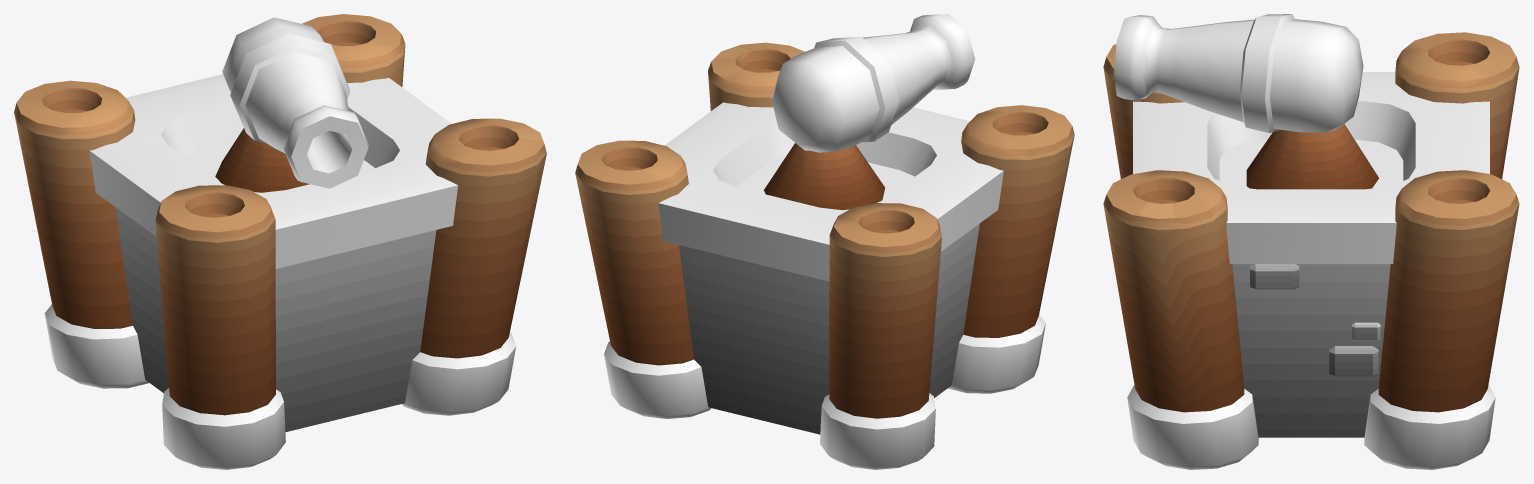
Rendered from Tower_01.fbx.
The picture shows the model from 3 angles, left to right: view 1: azimuth 30°, elevation 25°; view 2: azimuth 150°, elevation 25°; view 3: azimuth 270°, elevation 25°; orthographic projection. The views are drawn at different scales.
Parts seen in each view (by area): view 1: Tower_01, Cannon; view 2: Tower_01, Cannon; view 3: Tower_01, Cannon.
Boxes of the visible parts, bbox=[...] form: Tower_01: bbox=[14, 14, 546, 469]; Cannon: bbox=[222, 17, 368, 188]; Tower_01: bbox=[575, 42, 1074, 469]; Cannon: bbox=[772, 14, 975, 152]; Tower_01: bbox=[1103, 32, 1519, 469]; Cannon: bbox=[1114, 14, 1363, 133].
Size of the model in its own units: 99.97 by 91.22 by 92.9.
